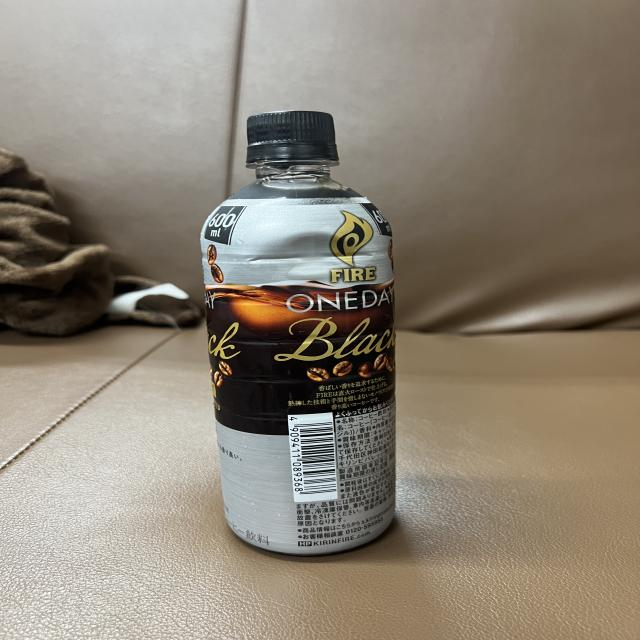coffee-black: (206, 108, 397, 558)
